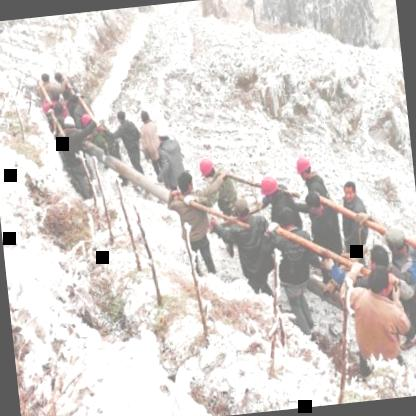head: (383, 220, 411, 258), (362, 240, 394, 273), (362, 268, 396, 298), (226, 193, 253, 226), (170, 170, 198, 199), (272, 204, 298, 234), (302, 189, 326, 218), (338, 178, 360, 202), (138, 105, 154, 124), (115, 108, 128, 124)
helmet: (258, 176, 280, 203), (292, 155, 314, 181), (196, 156, 216, 184), (154, 124, 172, 145), (78, 108, 95, 127), (62, 112, 76, 134)
